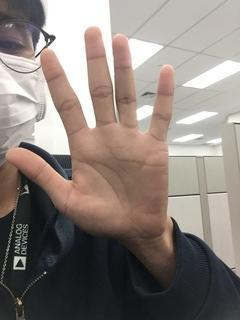hand: (6, 24, 179, 240)
